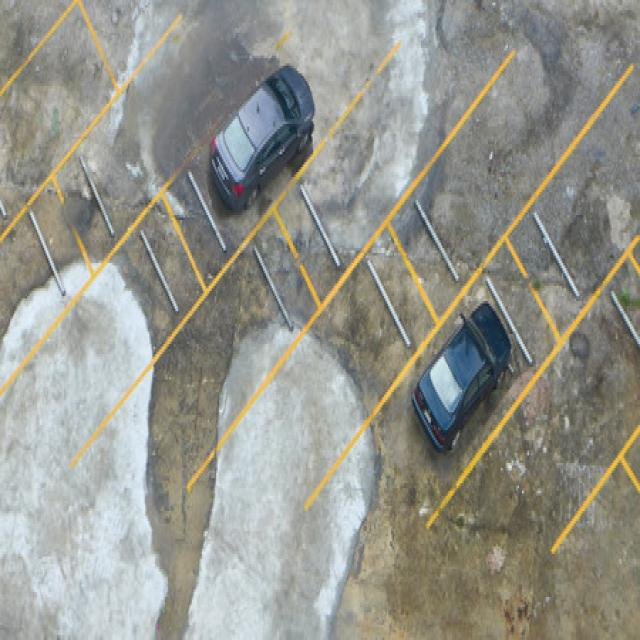libre: (388, 13, 601, 325), (271, 3, 485, 310), (236, 213, 440, 526), (126, 207, 322, 500), (24, 190, 207, 467), (59, 1, 240, 269), (485, 254, 639, 554), (507, 101, 638, 344), (2, 0, 118, 239), (2, 171, 95, 387)
ocupado: (162, 10, 361, 293), (404, 235, 565, 499)
